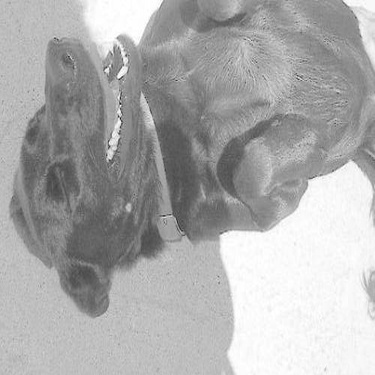dog: (7, 1, 370, 327)
